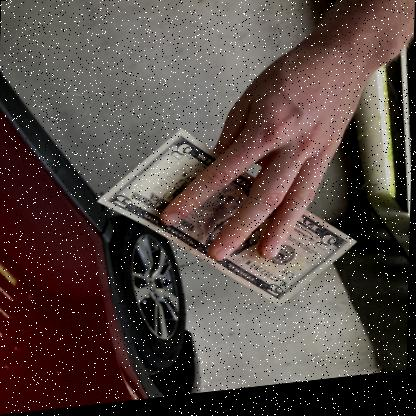five-front: (95, 124, 355, 306)
